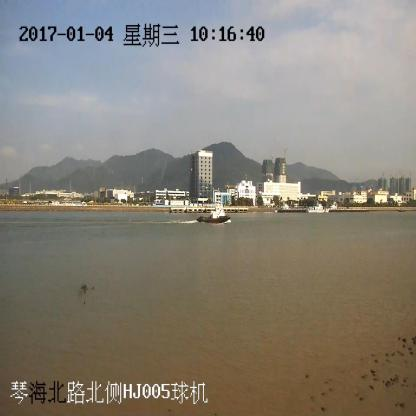Fishing Boat: (198, 205, 230, 222)
